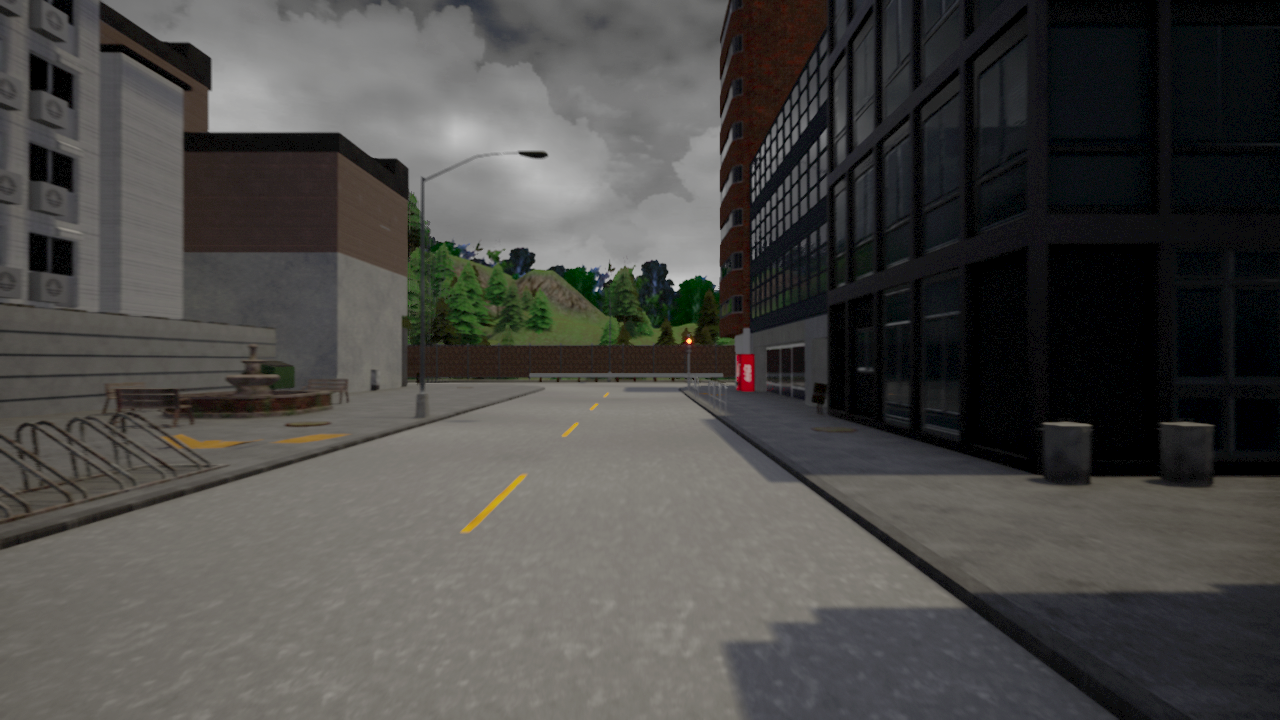red: (685, 337, 692, 355)
